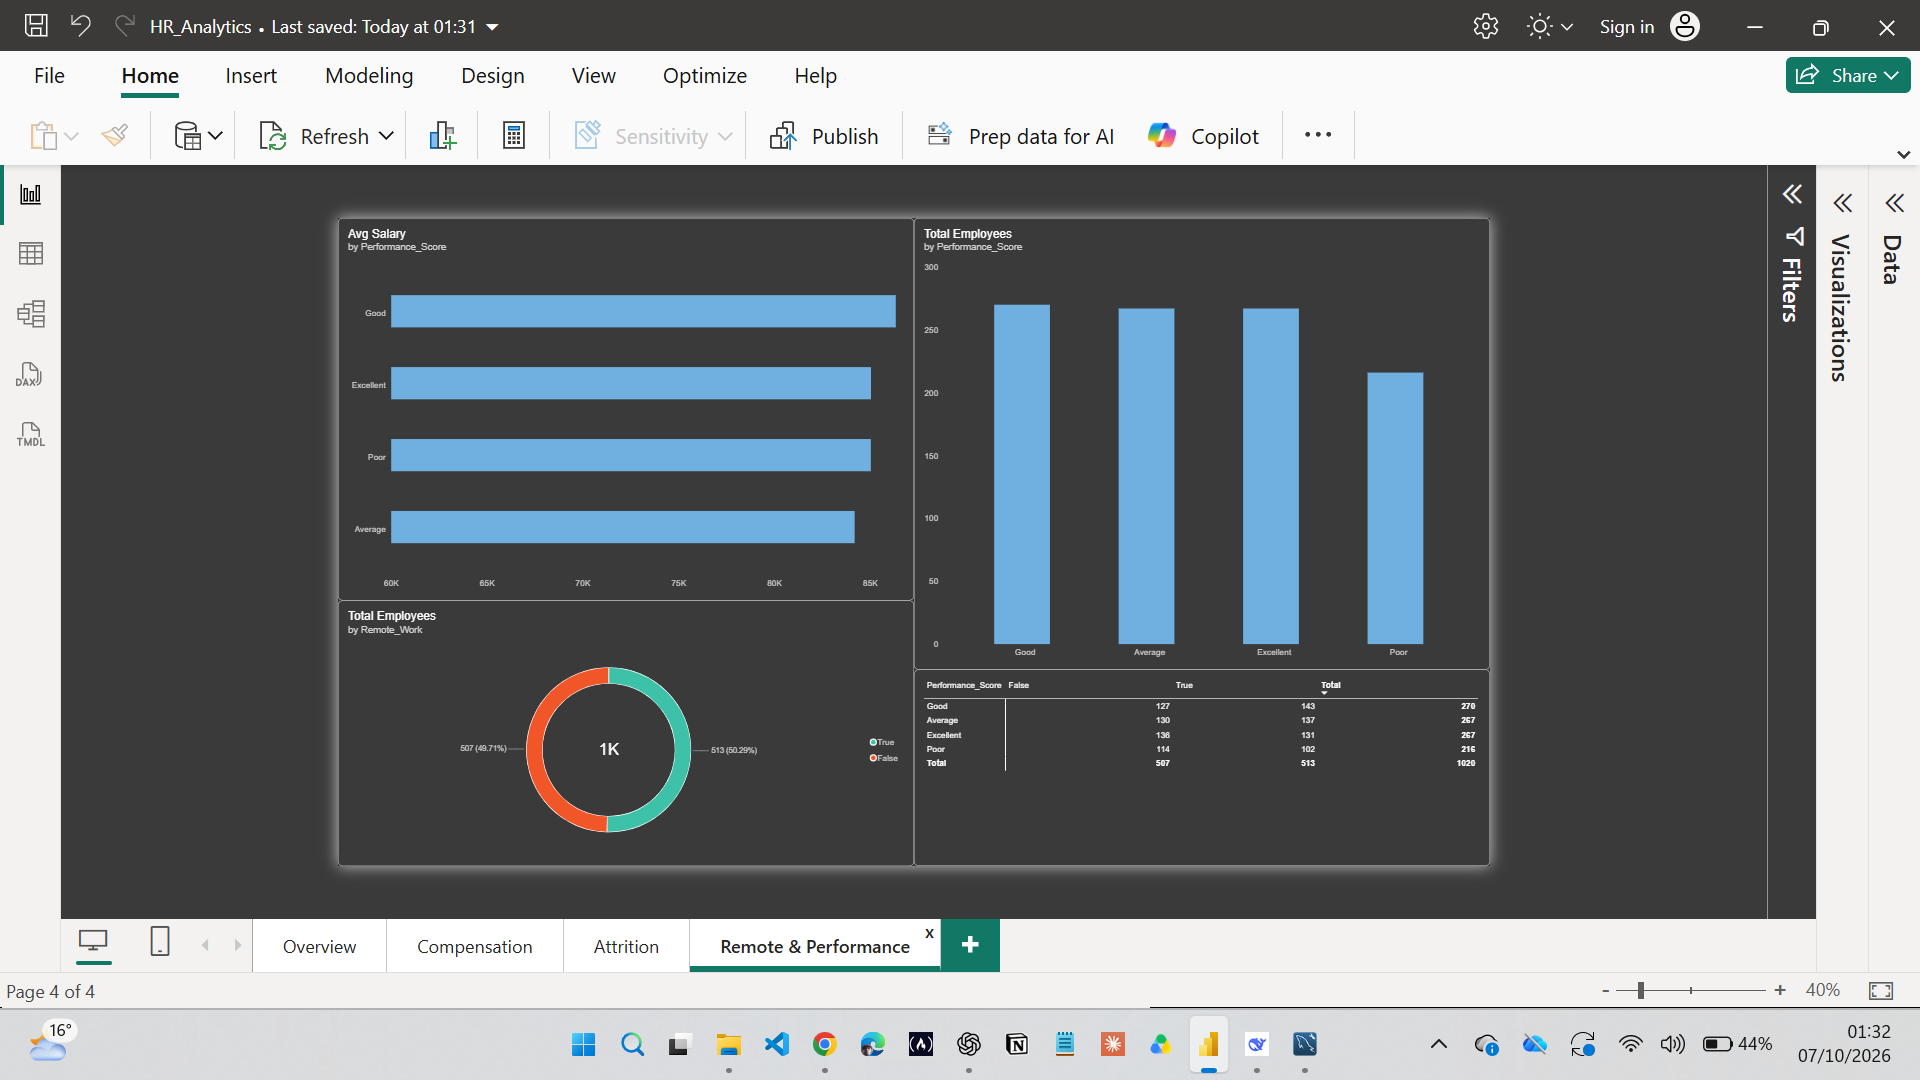

Layout of this report page (visuals, bound fields, positions):
{"tool":"powerbi","page":{"name":"Remote & Performance","canvas":[1920,1080],"ordinal":3},"visuals":[{"type":"donutChart","fields":{"Category":["Employees.Remote_Work"],"Y":["Employees.Total Employees"]},"box":[0,637.5,960,442.5],"z":0},{"type":"columnChart","fields":{"Category":["Employees.Performance_Score"],"Y":["Employees.Total Employees"]},"box":[960,0,960,752.5],"z":1},{"type":"pivotTable","fields":{"Columns":["Employees.Remote_Work"],"Rows":["Employees.Performance_Score"],"Values":["Employees.Total Employees"]},"box":[960,752.5,960,327.5],"z":2},{"type":"clusteredBarChart","fields":{"Category":["Employees.Performance_Score"],"Y":["Employees.Avg Salary"]},"box":[0,0,960,637.5],"z":3}]}

Visuals, with their boxes on the page's 1920x1080 design canvas (x1, y1, x2, y2). These are canvas units, not pixel positions in the 1920x1080 screenshot, which may show the page scaled, cropped or inside an application window:
donutChart - Employees.Remote_Work x Employees.Total Employees: Rect(0, 638, 960, 1080)
columnChart - Employees.Performance_Score x Employees.Total Employees: Rect(960, 0, 1920, 752)
pivotTable - Employees.Remote_Work x Employees.Performance_Score: Rect(960, 752, 1920, 1080)
clusteredBarChart - Employees.Performance_Score x Employees.Avg Salary: Rect(0, 0, 960, 638)
